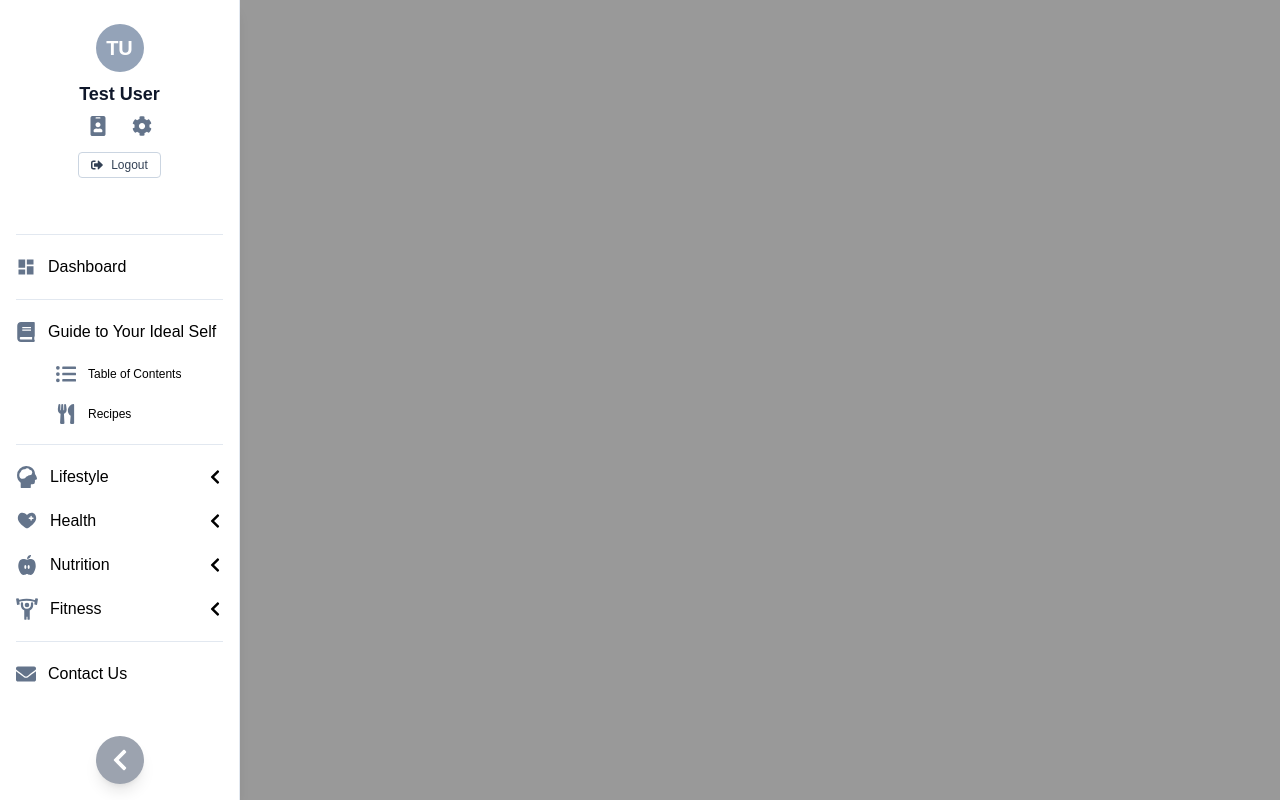
UserSidebar Component › expands fitness section when clicked
This screenshot has width=1280, height=800.
Click the button "Fitness": click(120, 609) [8,589,231,629]
(page scrolled)
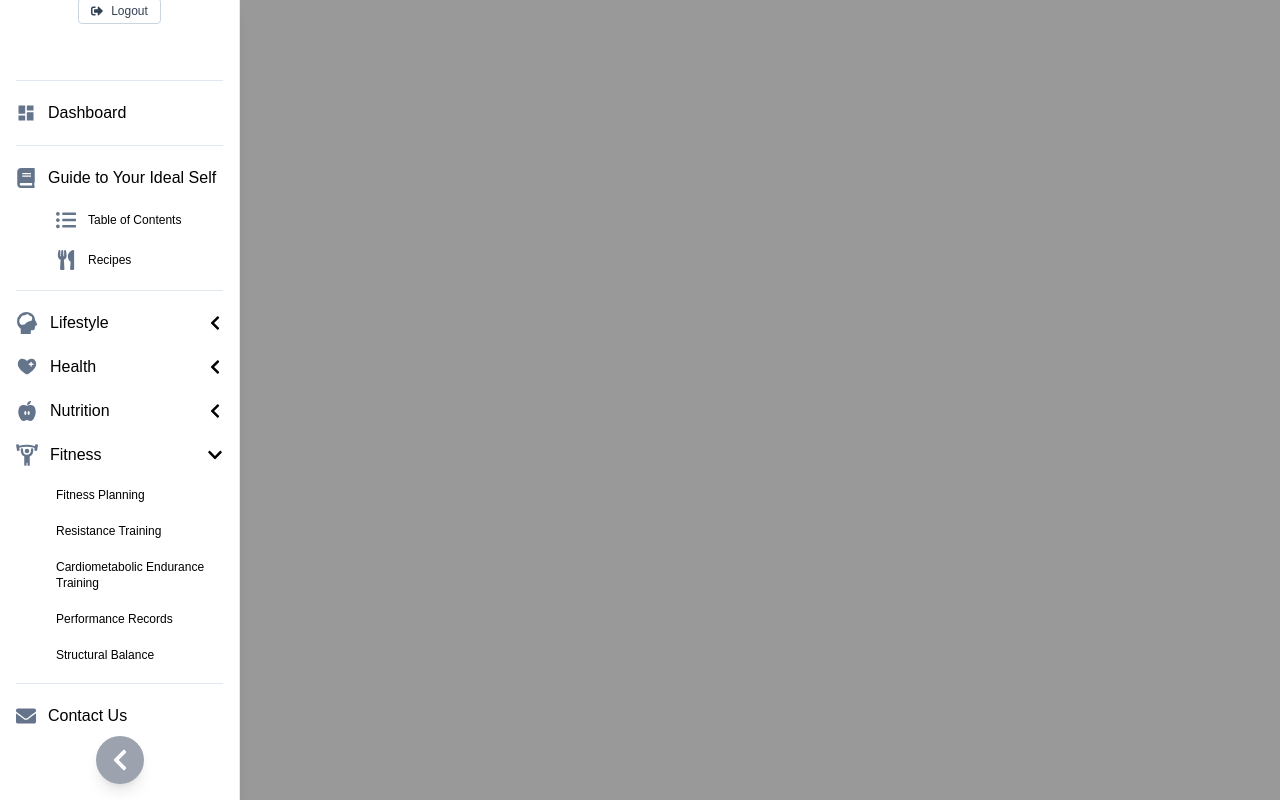
Result: the text "Fitness Planning" is shown at [56,488,145,502]
Result: the text "Resistance Training" is shown at [56,524,161,538]
Result: the text "Cardiometabolic Endurance Training" is shown at [56,560,204,590]
